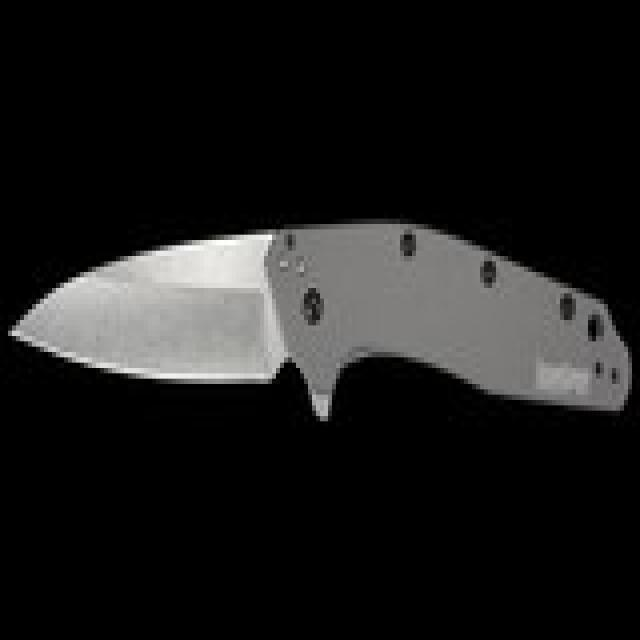Knife: (9, 236, 630, 438)
